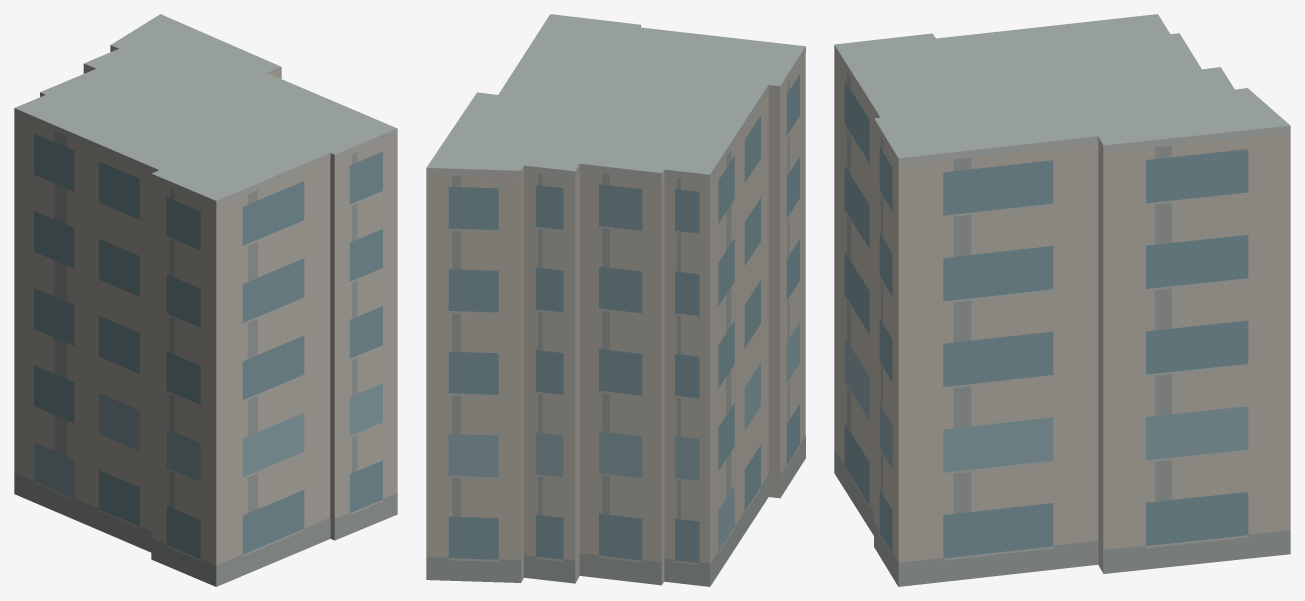
Rendered from survey-upis-32789258.glb.
3 views of the same model, side by side, from view 1: azimuth 30°, elevation 25°; view 2: azimuth 150°, elevation 25°; view 3: azimuth 270°, elevation 25° (orthographic). The views are drawn at different scales.
Visible parts, largest first — view 1: survey-upis-32789258.tmp; view 2: survey-upis-32789258.tmp; view 3: survey-upis-32789258.tmp.
Part boxes in pixels (bbox=[...]): survey-upis-32789258.tmp: bbox=[14, 14, 397, 586]; survey-upis-32789258.tmp: bbox=[426, 14, 805, 586]; survey-upis-32789258.tmp: bbox=[834, 14, 1290, 586].
Size of the model in its own units: 10.49 by 14.5 by 14.01.
